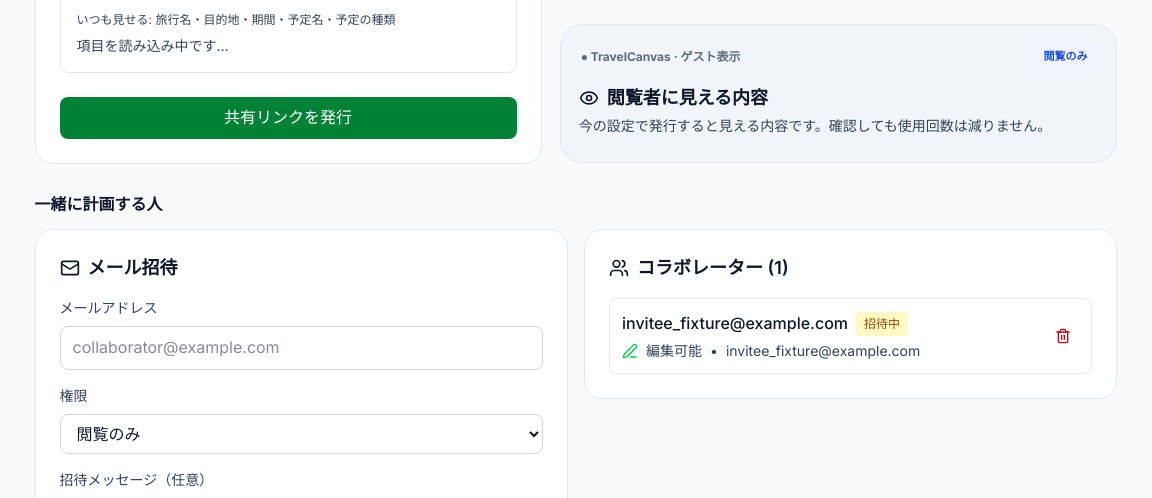
SharePage コラボレーター削除 (Gate B-013) › チケット担当に割り当てられていても削除でき、割当を外したことを知らせる
(page scrolled)
Click the button named "invitee_fixture@example.com を削除": (1064, 336) [1048,320,1080,352]
(page scrolled)
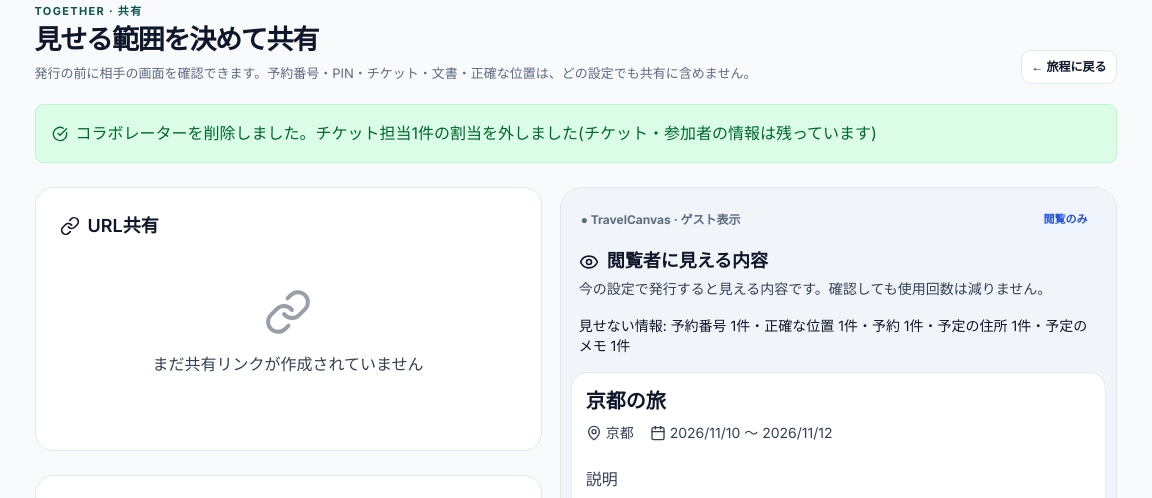
Now the text "コラボレーターを削除しました。チケット担当1件の割当を外しました(チケット・参加者の情報は残っています)" is shown, box [34,104,1117,163]
